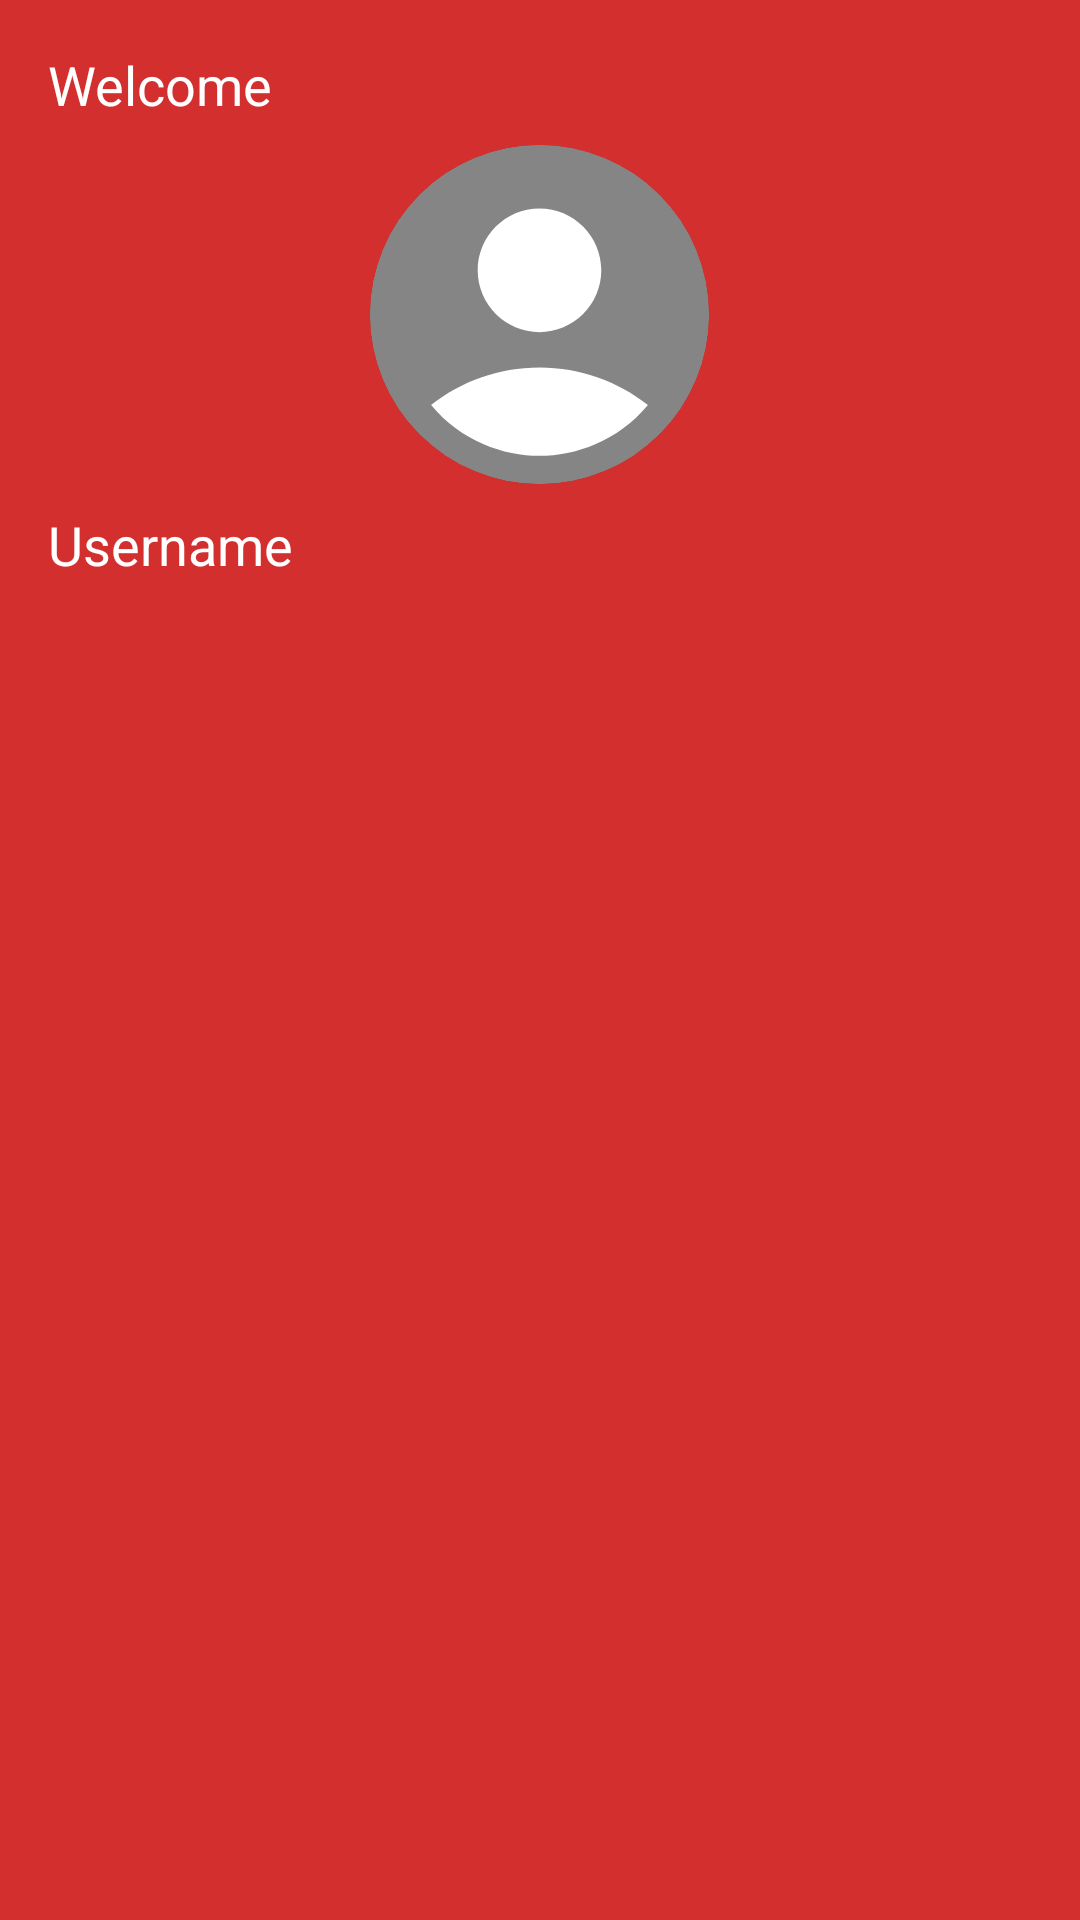

Screen size 1080*1920. Icon name, then its box in pixels as (x1, y1, x2, y2):
account: (370, 145, 709, 484)
